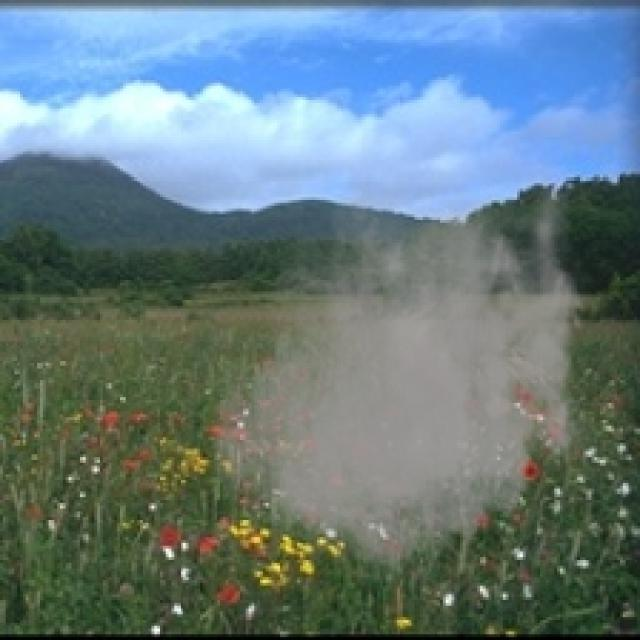Smoke: (200, 168, 603, 594)
